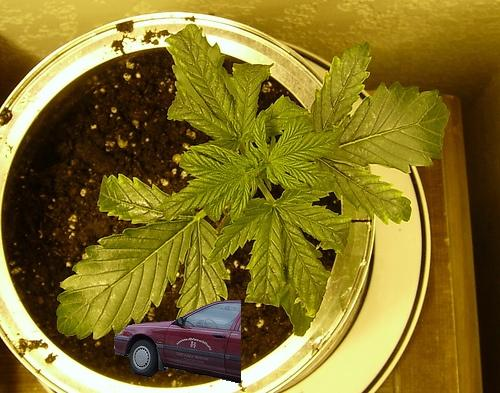tampered: (115, 301, 241, 383)
